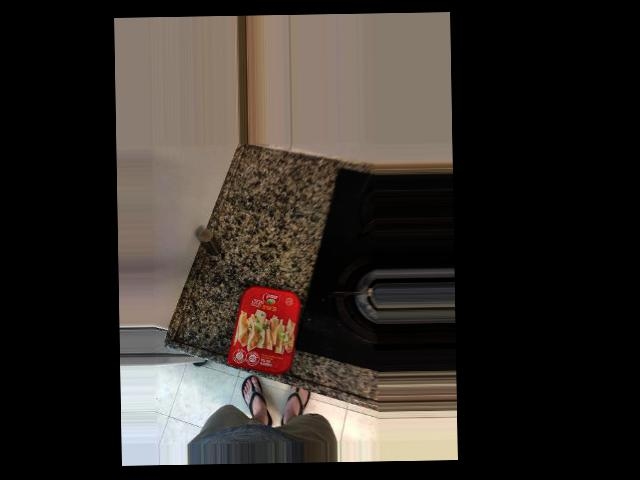cheese: (232, 191, 323, 302)
